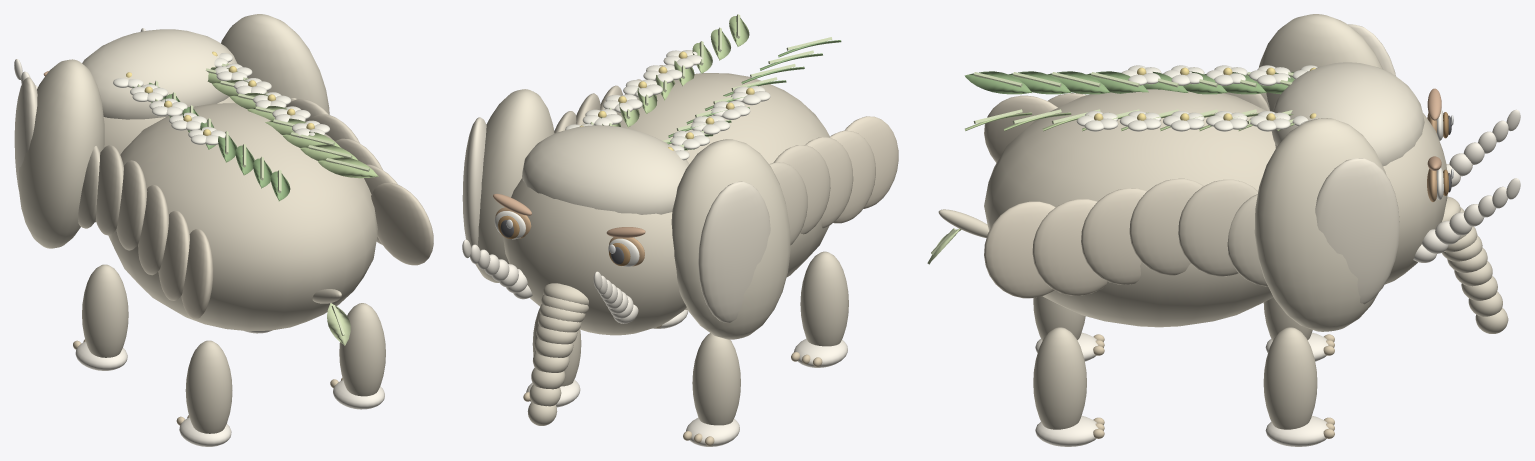
The model's file is RockElephant_A_S9.glb.
3 views of the same model, side by side, from view 1: azimuth 30°, elevation 25°; view 2: azimuth 150°, elevation 25°; view 3: azimuth 270°, elevation 25° (orthographic). The views are drawn at different scales.
Visible parts, largest first — view 1: Body__CC4B593, LeftEar__CD5C6A1, Static_DBCDAA__CDBCDAA, Static_CDBA96__CCDBA96, RightEar__CD5C6A1, Static_FAF3D7__CFAF3D7, LeftFrontLeg__CC4B593, LeftBackLeg__CC4B593, RightBackLeg__CC4B593, Static_91B561__C91B561, Static_C1B190__CC1B190, Static_C5B492__CC5B492 (+12 smaller); view 2: Static_C4B593__CC4B593, LeftEar__CD5C6A1, Static_DBCDAA__CDBCDAA, Body__CC4B593, LeftEar__CE6D6B3, RightEar__CD5C6A1, Static_FAF3D7__CFAF3D7, LeftBackLeg__CC4B593, LeftFrontLeg__CC4B593, Static_F4E8CE__CF4E8CE, Static_C1B190__CC1B190, Static_C5B492__CC5B492 (+16 smaller); view 3: Body__CC4B593, RightEar__CD5C6A1, Static_DBCDAA__CDBCDAA, Static_C4B593__CC4B593, RightEar__CE6D6B3, Static_CDBA96__CCDBA96, Static_FAF3D7__CFAF3D7, Static_BDAE8E__CBDAE8E, Static_C9B794__CC9B794, LeftEar__CD5C6A1, RightBackLeg__CC4B593, RightFrontLeg__CC4B593 (+14 smaller).
Part boxes in pixels (x1=…): Body__CC4B593: x1=108, y1=103, x2=377, y2=331; LeftEar__CD5C6A1: x1=18, y1=59, x2=104, y2=248; Static_DBCDAA__CDBCDAA: x1=82, y1=29, x2=237, y2=119; Static_CDBA96__CCDBA96: x1=181, y1=183, x2=433, y2=319; RightEar__CD5C6A1: x1=221, y1=14, x2=329, y2=114; Static_FAF3D7__CFAF3D7: x1=113, y1=53, x2=329, y2=145; LeftFrontLeg__CC4B593: x1=82, y1=264, x2=128, y2=357; LeftBackLeg__CC4B593: x1=185, y1=340, x2=232, y2=433; RightBackLeg__CC4B593: x1=339, y1=303, x2=385, y2=396; Static_91B561__C91B561: x1=207, y1=63, x2=378, y2=178; Static_C1B190__CC1B190: x1=116, y1=114, x2=359, y2=250; Static_C5B492__CC5B492: x1=138, y1=138, x2=382, y2=275; Static_C4B593__CC4B593: x1=503, y1=178, x2=686, y2=425; LeftEar__CD5C6A1: x1=671, y1=139, x2=790, y2=339; Static_DBCDAA__CDBCDAA: x1=522, y1=125, x2=689, y2=214; Body__CC4B593: x1=605, y1=73, x2=829, y2=309; LeftEar__CE6D6B3: x1=698, y1=181, x2=770, y2=322; RightEar__CD5C6A1: x1=475, y1=89, x2=554, y2=282; Static_FAF3D7__CFAF3D7: x1=565, y1=50, x2=770, y2=160; LeftBackLeg__CC4B593: x1=800, y1=251, x2=848, y2=346; LeftFrontLeg__CC4B593: x1=692, y1=333, x2=740, y2=425; Static_F4E8CE__CF4E8CE: x1=462, y1=239, x2=638, y2=323; Static_C1B190__CC1B190: x1=576, y1=93, x2=830, y2=234; Static_C5B492__CC5B492: x1=600, y1=85, x2=853, y2=228; Body__CC4B593: x1=984, y1=89, x2=1275, y2=327; RightEar__CD5C6A1: x1=1254, y1=118, x2=1386, y2=331; Static_DBCDAA__CDBCDAA: x1=1271, y1=62, x2=1424, y2=166; Static_C4B593__CC4B593: x1=1275, y1=113, x2=1508, y2=333; RightEar__CE6D6B3: x1=1315, y1=158, x2=1399, y2=304; Static_CDBA96__CCDBA96: x1=984, y1=95, x2=1057, y2=298; Static_FAF3D7__CFAF3D7: x1=1076, y1=65, x2=1317, y2=131; Static_BDAE8E__CBDAE8E: x1=1178, y1=92, x2=1269, y2=276; Static_C9B794__CC9B794: x1=1032, y1=93, x2=1107, y2=295; LeftEar__CD5C6A1: x1=1259, y1=14, x2=1382, y2=111; RightBackLeg__CC4B593: x1=1033, y1=327, x2=1086, y2=429; RightFrontLeg__CC4B593: x1=1263, y1=327, x2=1317, y2=429.
Size of the model in its own units: 22.85 by 22.46 by 36.33.
